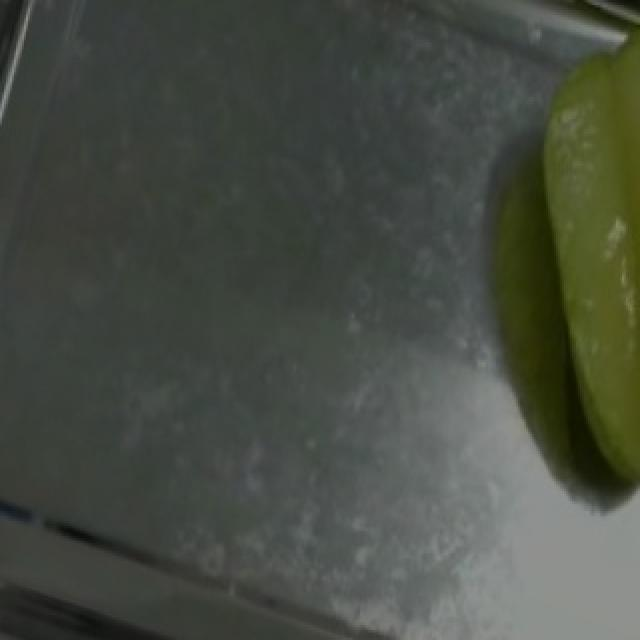fruit: (524, 152, 640, 504)
